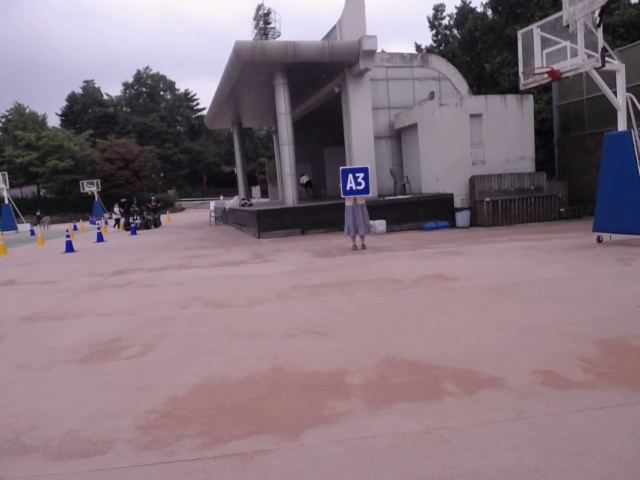delivery_a3: (340, 166, 371, 197)
